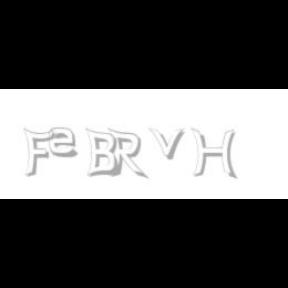B: (85, 128, 119, 178)
F: (23, 128, 55, 178)
H: (191, 128, 237, 180)
R: (107, 128, 145, 180)
e: (48, 128, 82, 158)
v: (148, 128, 188, 160)
